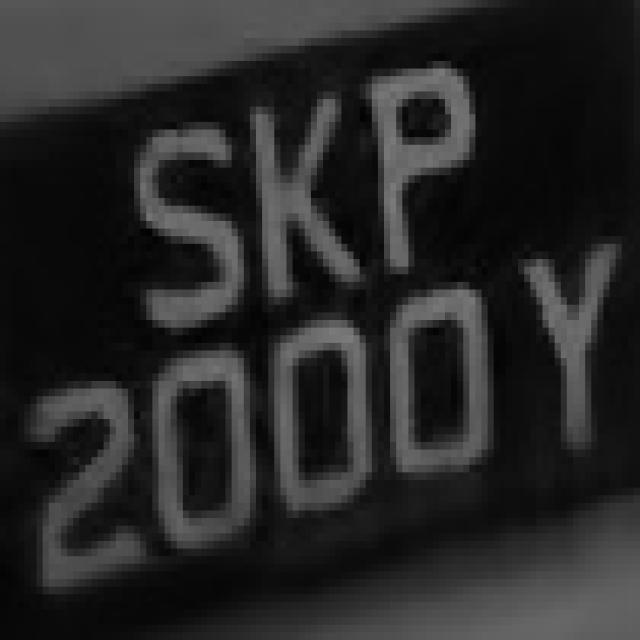0: (366, 236, 506, 526), (140, 343, 280, 564), (250, 328, 378, 541)
2: (6, 343, 165, 617)
K: (225, 69, 348, 312)
P: (348, 46, 488, 282)
S: (110, 84, 256, 366)
Y: (500, 236, 634, 488)
